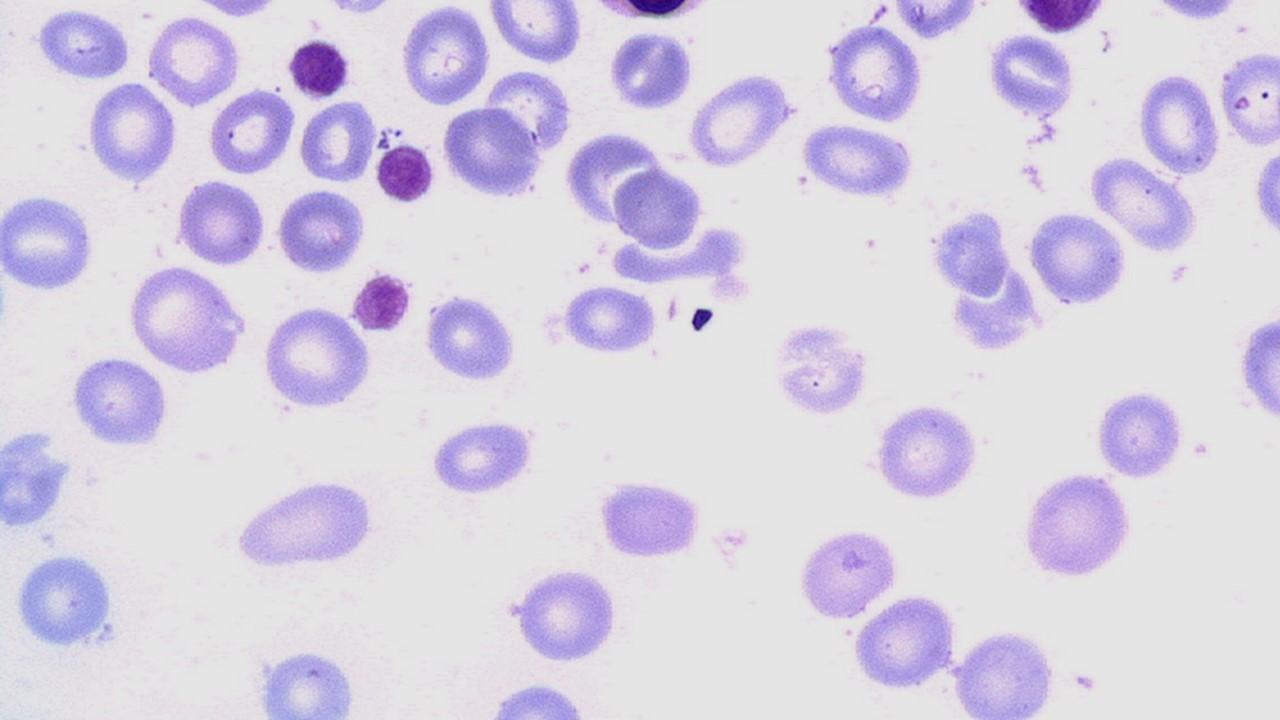Platelets: (372, 139, 438, 206), (286, 33, 351, 101), (350, 269, 413, 337), (706, 521, 756, 570), (321, 0, 394, 17), (1064, 668, 1102, 698), (1164, 258, 1194, 290), (1024, 124, 1060, 149), (92, 618, 121, 648), (688, 305, 718, 334), (1016, 160, 1045, 189), (666, 293, 682, 323)
RBC: (928, 201, 1054, 360), (227, 471, 390, 583), (1016, 467, 1139, 587), (125, 260, 248, 378), (846, 588, 964, 707), (259, 300, 377, 416), (871, 396, 986, 506), (506, 562, 626, 666), (1088, 153, 1204, 257), (686, 67, 802, 171), (2, 422, 100, 544), (11, 548, 121, 652), (794, 522, 906, 624), (65, 352, 176, 454), (820, 19, 926, 125), (438, 102, 548, 204), (950, 622, 1066, 718), (768, 319, 874, 421), (0, 188, 97, 297), (1024, 207, 1128, 308), (418, 289, 524, 388), (594, 472, 708, 564), (796, 118, 917, 203), (426, 415, 546, 500), (85, 79, 180, 186), (398, 1, 494, 106), (1089, 384, 1189, 482), (145, 12, 244, 108), (177, 176, 274, 271), (247, 642, 368, 718), (482, 64, 574, 162), (1142, 71, 1226, 176), (608, 164, 708, 252), (274, 184, 369, 276), (206, 86, 298, 178), (984, 32, 1079, 118), (30, 6, 134, 83), (606, 25, 698, 112), (558, 281, 659, 357), (298, 96, 377, 186), (1218, 47, 1280, 150), (486, 2, 586, 65), (1235, 300, 1280, 439), (478, 679, 600, 718), (1250, 144, 1280, 243)
WBC: (1006, 0, 1116, 34)
